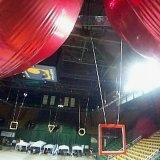Orange_Square_GShape: (99, 124, 126, 156)
Yellow_Circle_GShape: (78, 128, 86, 136)
Yellow_Square_GShape: (9, 121, 19, 130)
Yellow_Triangle_Gshape: (48, 125, 56, 134)
